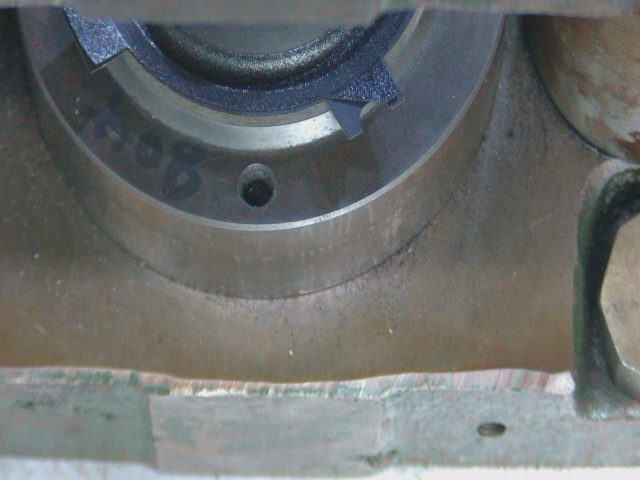OK: (323, 58, 412, 148)
